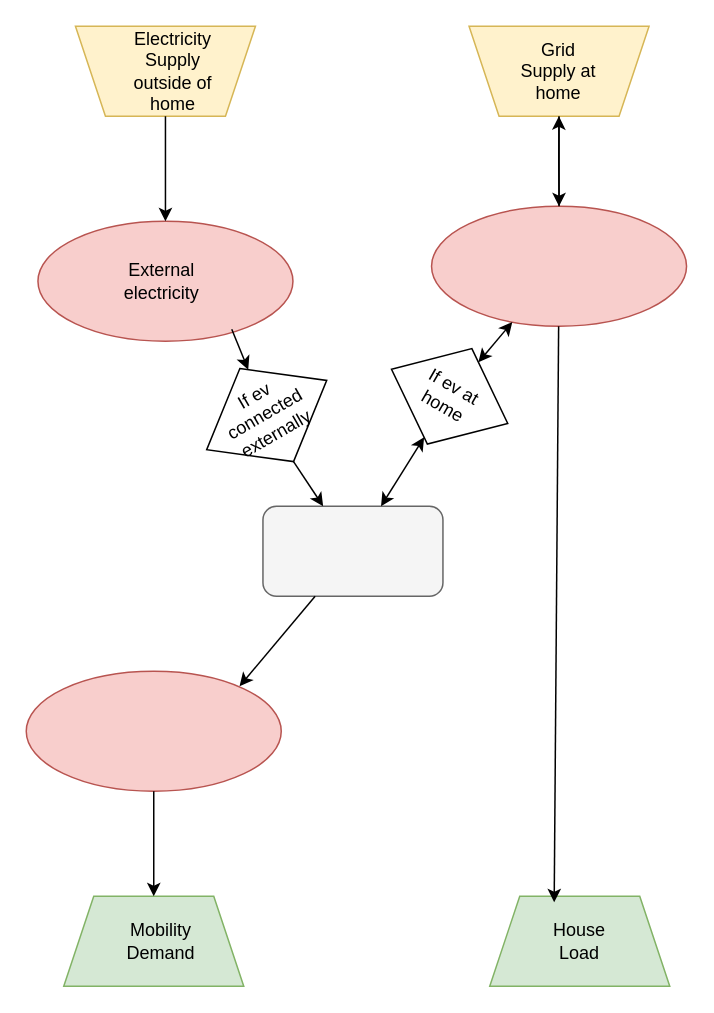
This 714x1013 diagram has some shape labels left out. Here are the shapes that lost their labels. From the top down, the centre of each, then its label:
At point (558, 265): "Home Electricity".
At point (352, 550): "EV Battery".
At point (153, 730): "Electricity consumption of EV".
